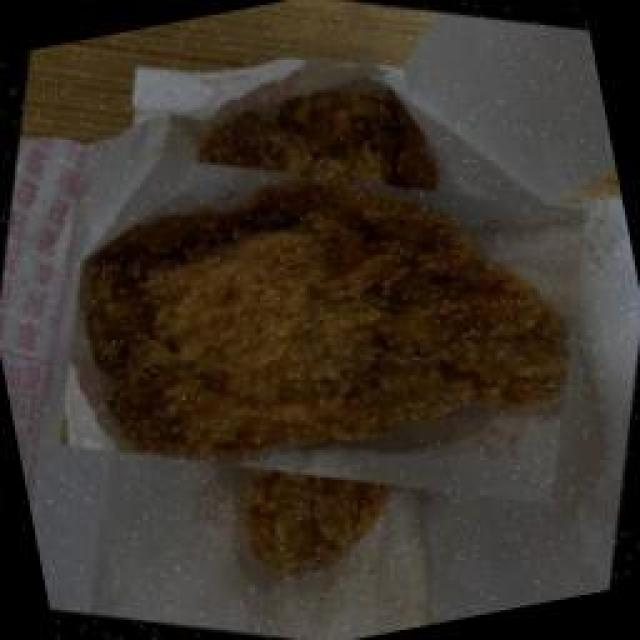fried_chicken: (33, 35, 618, 620)
